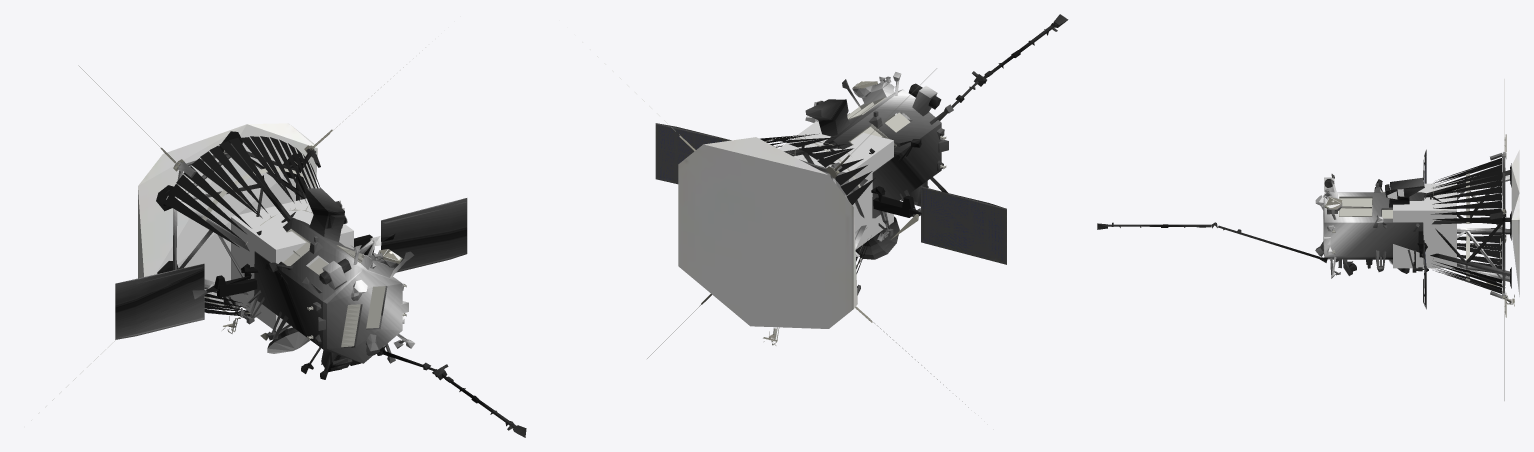
The model's file is parker-preview.glb.
The picture shows the model from 3 angles, left to right: view 1: azimuth 30°, elevation 25°; view 2: azimuth 150°, elevation 25°; view 3: azimuth 270°, elevation 25°; orthographic projection. The views are drawn at different scales.
Parts seen in each view (by area): view 1: Cylinder.008, Cylinder.053, CoolingSystem, solarWing_LeftBacking, Cube.027, solarWing_RightBacking, vents, Cylinder.128, Cube.025, heatShield_Mounting, HGA, CoolingSystem_frame; view 2: Cylinder.053, Cylinder.008, Cube.027, CoolingSystem, Cube.025, Cylinder.128, vents; view 3: Cylinder.008, CoolingSystem, Cube.027, Cylinder.053, vents, Cube.025.
Boxes of the visible parts, left/top/right/bottom form: Cylinder.008: left=166, top=143, right=414, bottom=379; Cylinder.053: left=117, top=123, right=467, bottom=340; CoolingSystem: left=165, top=136, right=320, bottom=316; solarWing_LeftBacking: left=115, top=264, right=204, bottom=339; Cube.027: left=231, top=198, right=353, bottom=331; solarWing_RightBacking: left=381, top=198, right=466, bottom=272; vents: left=281, top=229, right=385, bottom=347; Cylinder.128: left=192, top=234, right=395, bottom=299; Cube.025: left=377, top=345, right=526, bottom=437; heatShield_Mounting: left=156, top=131, right=303, bottom=307; HGA: left=267, top=331, right=310, bottom=353; CoolingSystem_frame: left=177, top=146, right=316, bottom=333; Cylinder.053: left=655, top=81, right=1006, bottom=345; Cylinder.008: left=784, top=72, right=953, bottom=295; Cube.027: left=779, top=121, right=893, bottom=249; CoolingSystem: left=760, top=133, right=875, bottom=273; Cube.025: left=938, top=14, right=1068, bottom=120; Cylinder.128: left=871, top=186, right=921, bottom=217; vents: left=847, top=97, right=910, bottom=147; Cylinder.008: left=1315, top=152, right=1510, bottom=299; CoolingSystem: left=1431, top=158, right=1501, bottom=293; Cube.027: left=1393, top=183, right=1456, bottom=268; Cylinder.053: left=1324, top=134, right=1519, bottom=317; vents: left=1339, top=191, right=1392, bottom=218; Cube.025: left=1097, top=222, right=1327, bottom=262.
Size of the model in its own units: 5.75 by 5.26 by 6.6.
Materials: 6 (2 with a texture image).
